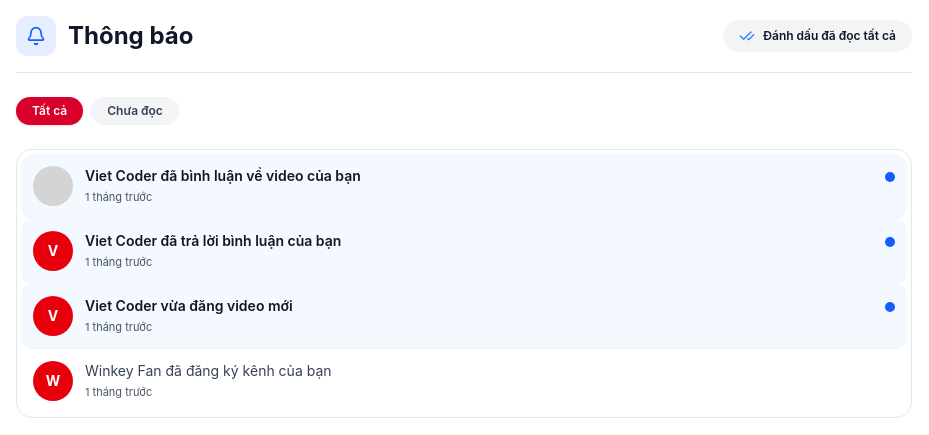
N1-web: Notifications System › Notifications Page › supports switching between "Tất cả" and "Chưa đọc" tabs
Expected: the link with test id "notification-item-notif-1" is shown, [21,154,907,219]
Expected: the link with test id "notification-item-notif-4" is shown, [33,361,332,401]
// Switch to "Chưa đọc" tab
Step 1. Click the button with test id "notifications-tab-unread" → (135, 111), box [91,97,179,125]
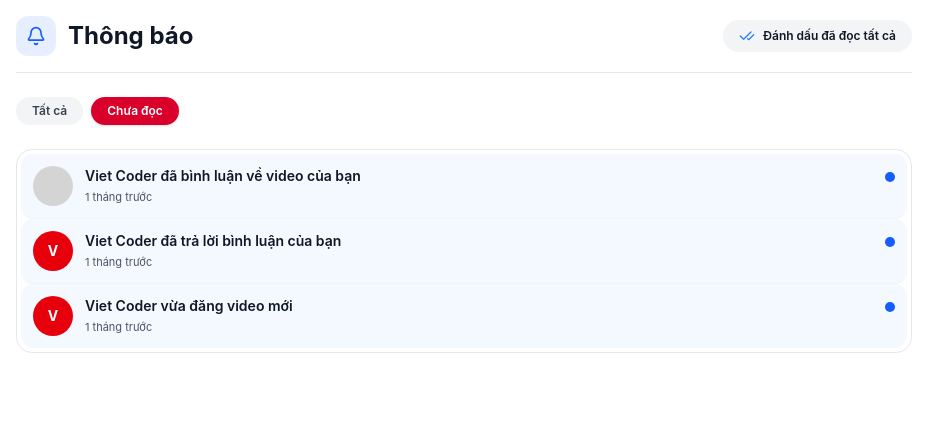
Expected: the link with test id "notification-item-notif-1" is shown, [21,154,907,219]
Now the link with test id "notification-item-notif-4" is gone
